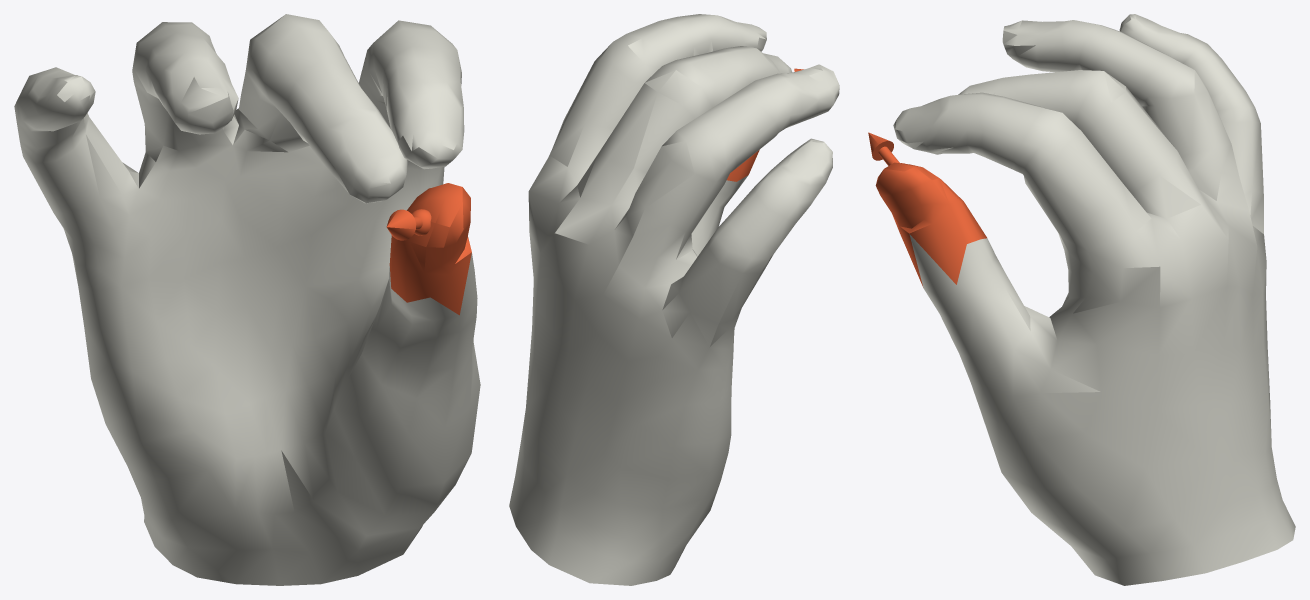
File: notation_mano.glb
3 views of the same model, side by side, from view 1: azimuth 30°, elevation 25°; view 2: azimuth 150°, elevation 25°; view 3: azimuth 270°, elevation 25° (orthographic). The views are drawn at different scales.
Visible parts, largest first — view 1: mesh0; view 2: mesh0; view 3: mesh0.
Part boxes in pixels (bbox=[...]): mesh0: bbox=[14, 14, 480, 585]; mesh0: bbox=[509, 14, 839, 585]; mesh0: bbox=[868, 14, 1295, 585].
Bounding box in the file's own units: 0.1004 × 0.1453 × 0.1167.
